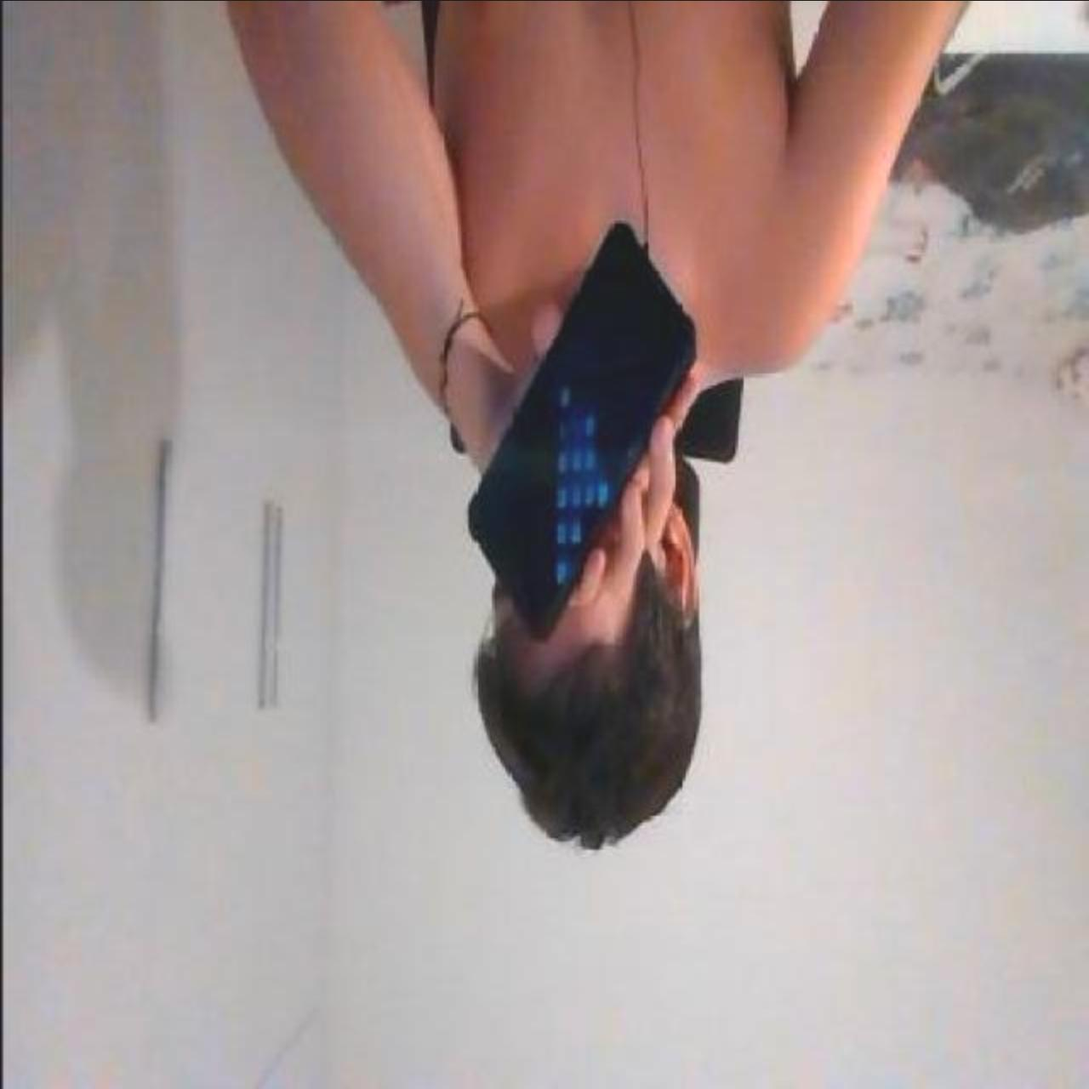phone: (461, 210, 699, 641)
